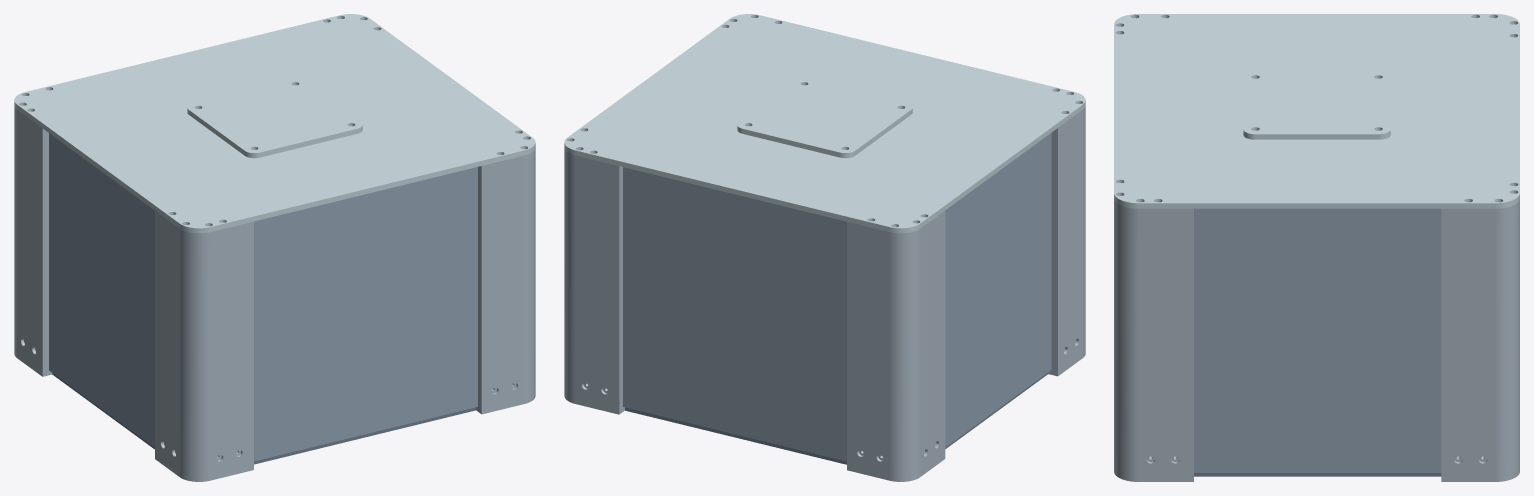
The model's file is machine.glb.
3 views of the same model, side by side, from view 1: azimuth 30°, elevation 25°; view 2: azimuth 150°, elevation 25°; view 3: azimuth 270°, elevation 25° (orthographic). The views are drawn at different scales.
Visible parts, largest first — view 1: part-09, part-11, part-13, part-19, part-16, part-18, part-08, part-14; view 2: part-09, part-10, part-13, part-18, part-17, part-19, part-08, part-14; view 3: part-09, part-12, part-16, part-17, part-08, part-14.
Part boxes in pixels (bbox=[...]): part-09: bbox=[14, 14, 535, 233]; part-11: bbox=[254, 167, 477, 461]; part-13: bbox=[49, 133, 154, 447]; part-19: bbox=[155, 211, 253, 481]; part-16: bbox=[476, 148, 535, 414]; part-18: bbox=[14, 106, 52, 376]; part-08: bbox=[187, 79, 362, 158]; part-14: bbox=[52, 373, 475, 464]; part-09: bbox=[564, 14, 1085, 233]; part-10: bbox=[623, 167, 846, 461]; part-13: bbox=[945, 133, 1051, 447]; part-18: bbox=[847, 210, 945, 481]; part-17: bbox=[564, 148, 624, 414]; part-19: bbox=[1048, 106, 1085, 376]; part-08: bbox=[737, 79, 912, 158]; part-14: bbox=[625, 372, 1048, 464]; part-09: bbox=[1114, 14, 1519, 208]; part-12: bbox=[1194, 208, 1441, 472]; part-16: bbox=[1114, 200, 1193, 481]; part-17: bbox=[1441, 200, 1519, 481]; part-08: bbox=[1243, 72, 1390, 139]; part-14: bbox=[1194, 473, 1441, 476].
Size of the model in its own units: 364 by 255 by 330.
